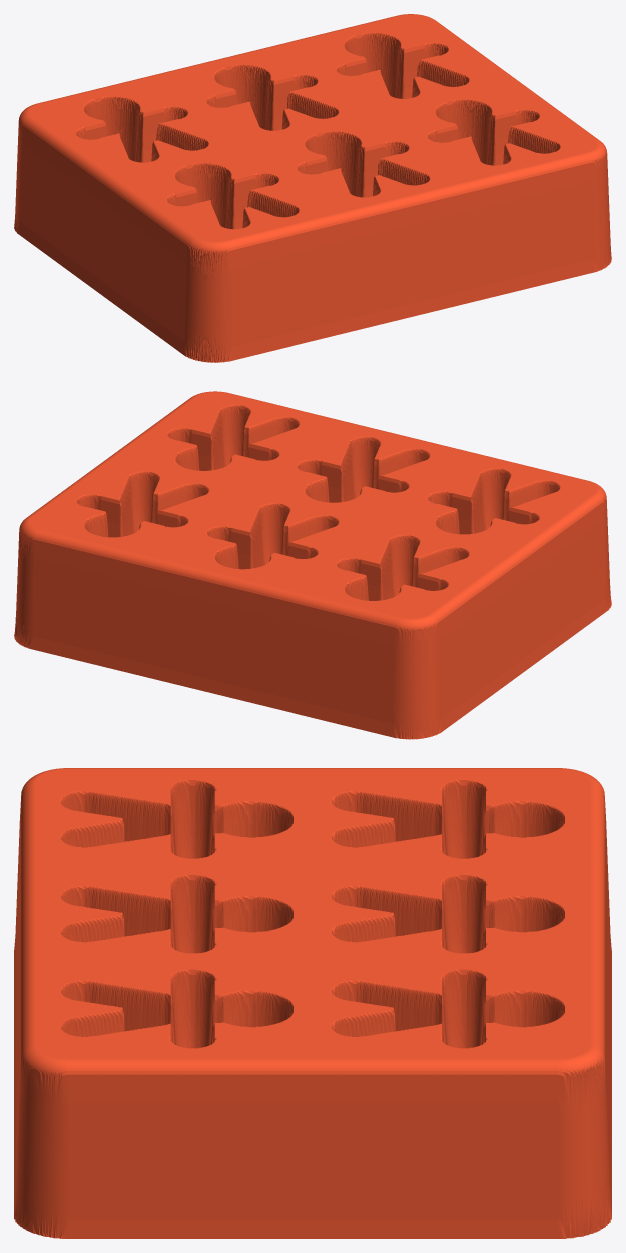
File: mold.glb
The picture shows the model from 3 angles, top to bottom: view 1: azimuth 30°, elevation 25°; view 2: azimuth 150°, elevation 25°; view 3: azimuth 270°, elevation 25°; orthographic projection. The views are drawn at different scales.
Parts seen in each view (by area): view 1: geometry_0; view 2: geometry_0; view 3: geometry_0.
Part boxes in pixels (<box>): geometry_0: <box>14,14,611,362</box>; geometry_0: <box>14,391,611,739</box>; geometry_0: <box>14,768,611,1238</box>.
Bounding box in the file's own units: 0.1213 × 0.0314 × 0.0996.
